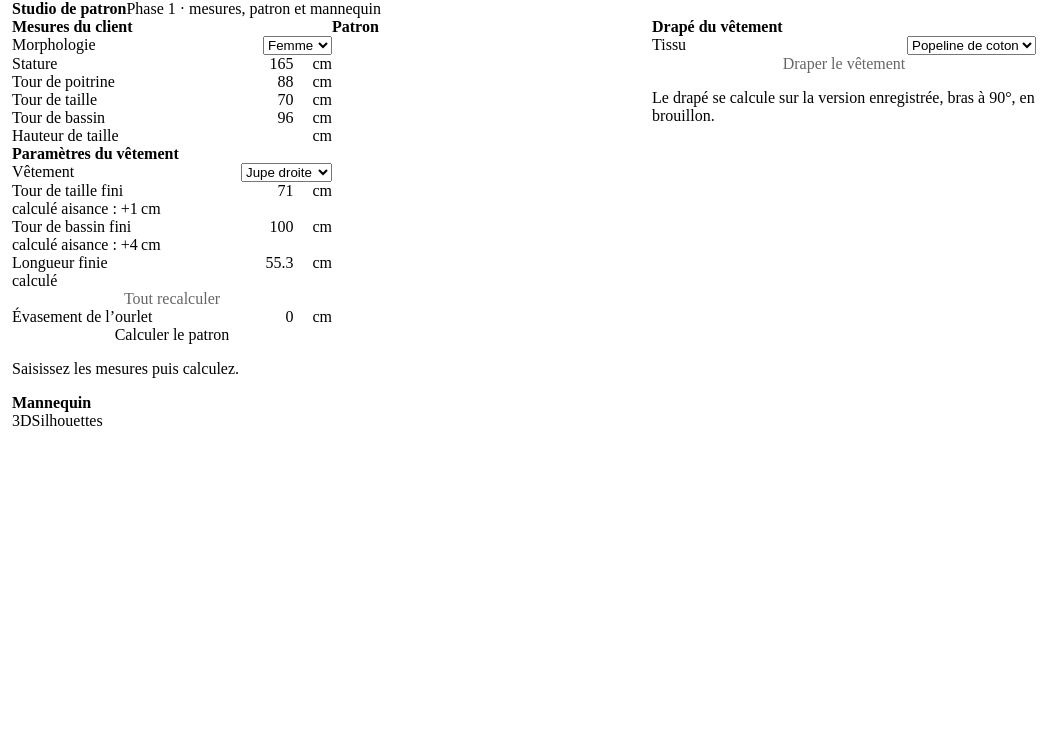
Test case: reprise d’une version dans le studio › modifications et accord : le formulaire est remplacé
Click the button "Calculer le patron".
click(172, 335)  # box [12,326,332,344]
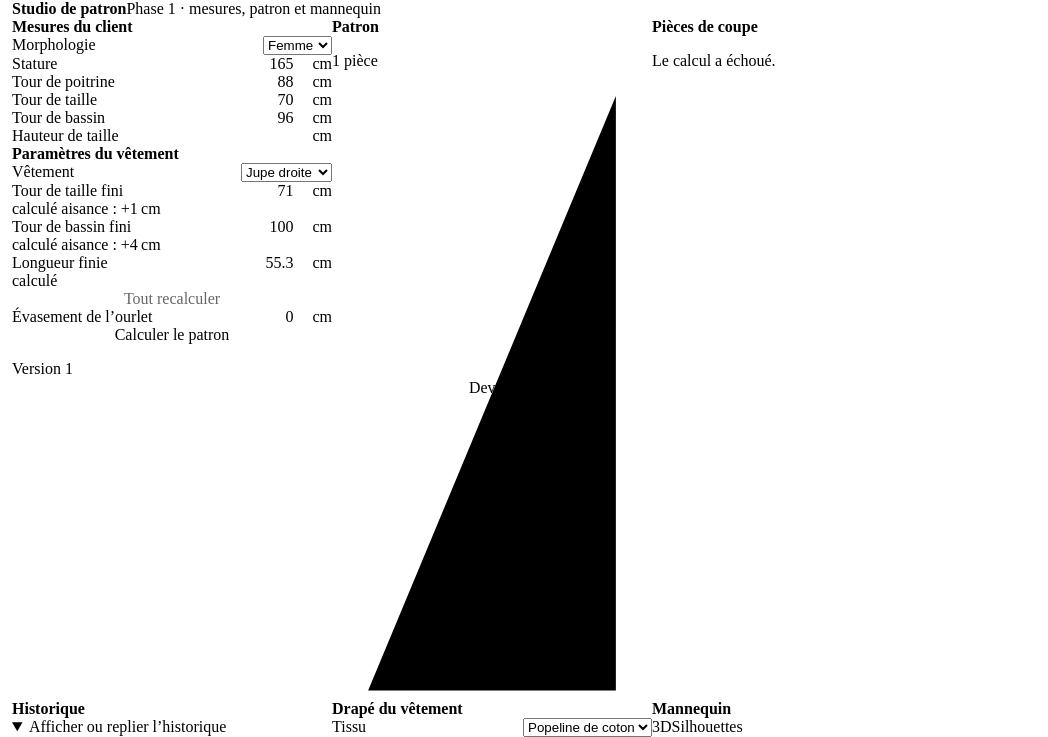
Replace the text in the number field labelled "Longueur finie" with "55" at (260, 263), box [212,254,308,272]
(page scrolled)
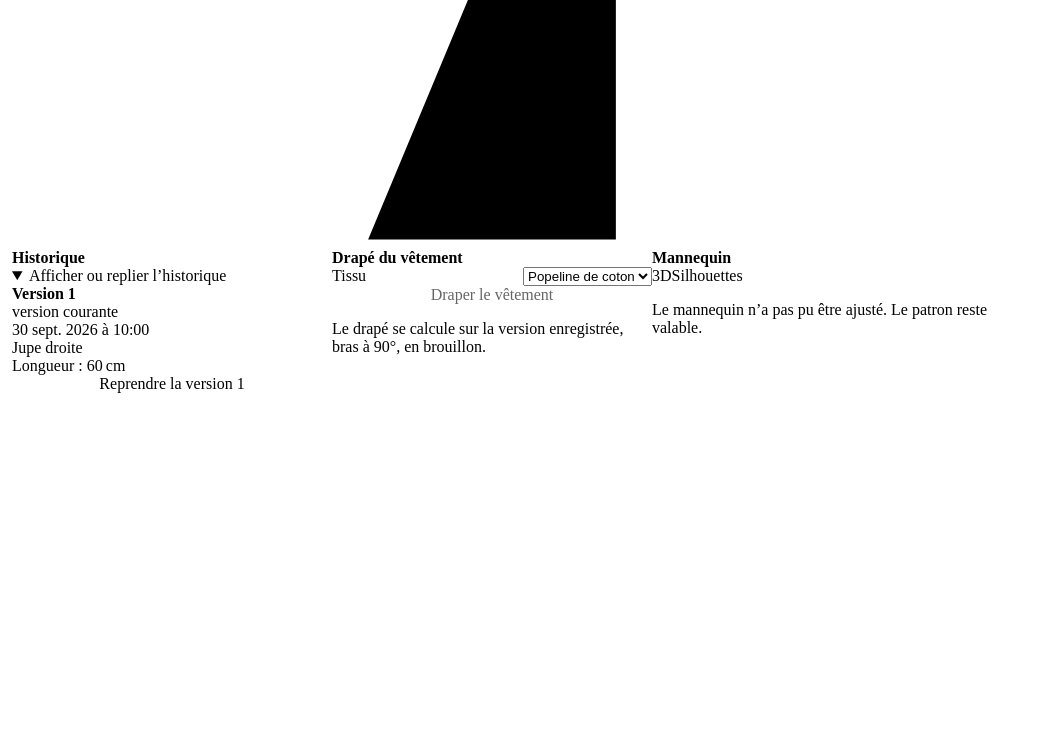
Click the button "Reprendre la version 1".
click(172, 384)  # box [12,375,332,393]
(page scrolled)
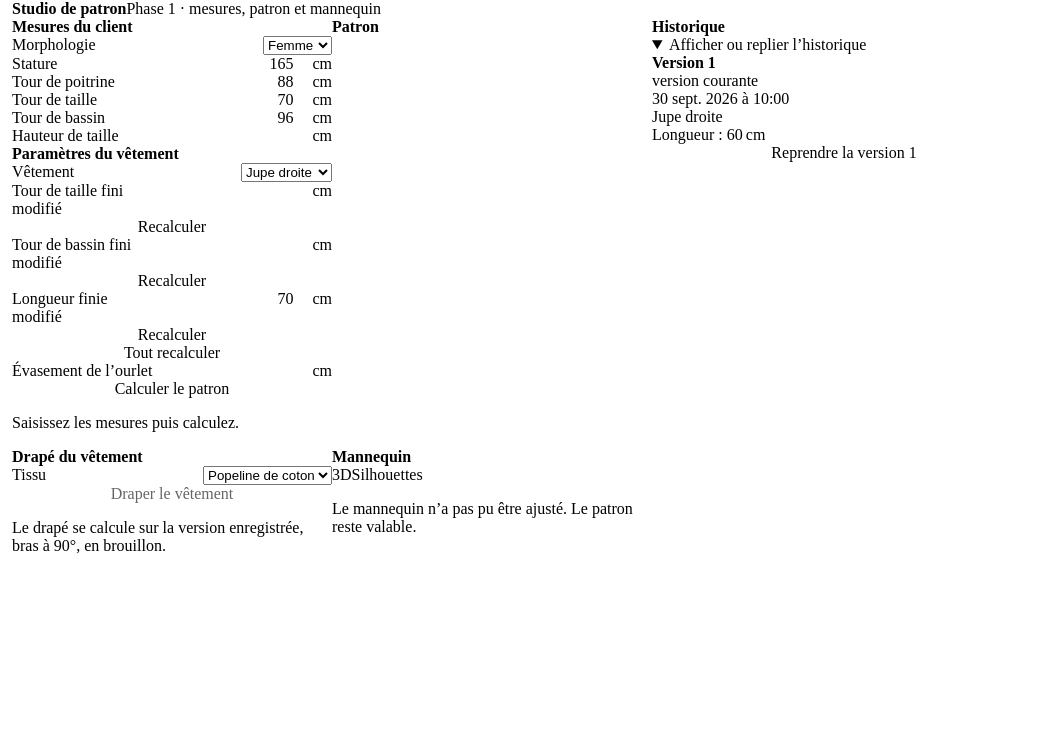
Now the number field labelled "Longueur finie" holds "70", box [212,290,308,308]
